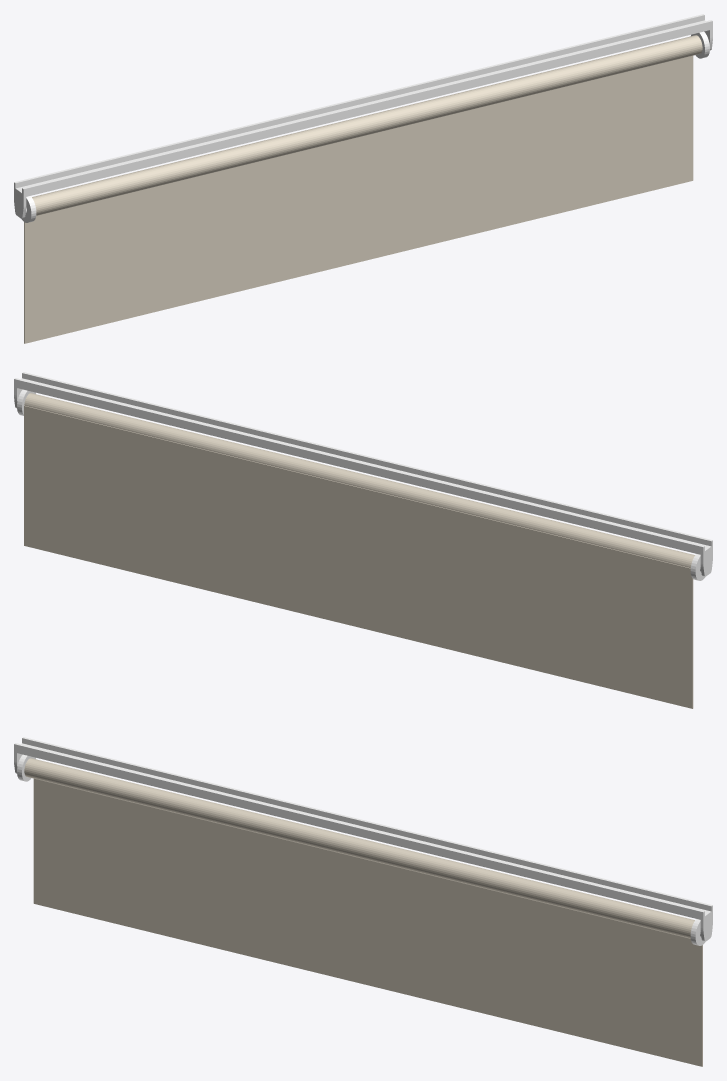
File: estor.fbx
The picture shows the model from 3 angles, top to bottom: view 1: azimuth 30°, elevation 25°; view 2: azimuth 150°, elevation 25°; view 3: azimuth 330°, elevation 25°; orthographic projection.
Visible parts, largest first — view 1: Plane, Cylinder, Cube; view 2: Plane, Cube, Cylinder; view 3: Plane, Cylinder, Cube.
Part boxes in pixels (<box>): Plane: <box>24,55,693,343</box>; Cylinder: <box>32,35,702,215</box>; Cube: <box>14,14,712,218</box>; Plane: <box>24,405,693,708</box>; Cube: <box>14,372,712,576</box>; Cylinder: <box>24,393,694,567</box>; Plane: <box>33,778,702,1066</box>; Cylinder: <box>24,758,694,938</box>; Cube: <box>14,737,712,941</box>.
Bounding box in the file's own units: 206 × 46.89 × 7.5.
